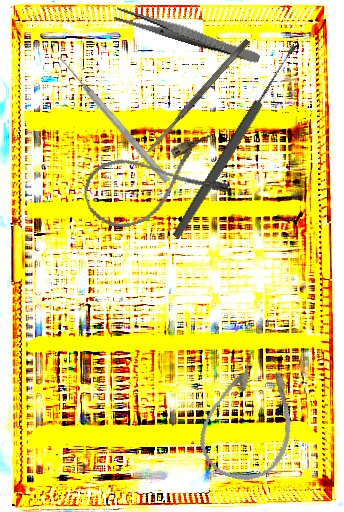Cannula: (190, 347, 311, 491), (77, 130, 231, 237)
Dressing Forceps: (112, 5, 263, 65)
Pusher: (55, 53, 172, 185)
Spatula Surgical: (144, 37, 252, 155)
Surgical Spoon: (170, 42, 301, 241)
